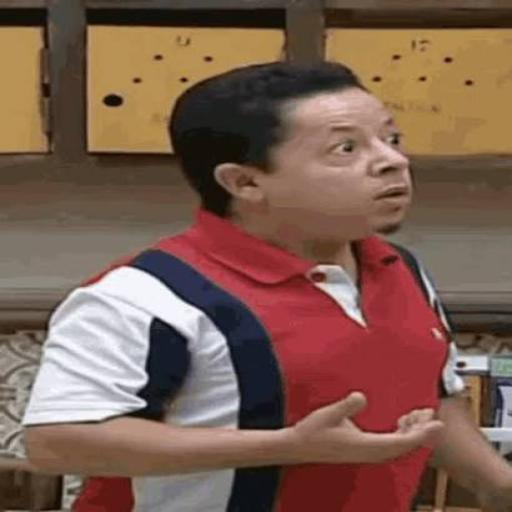fouchika: (169, 62, 411, 240)
